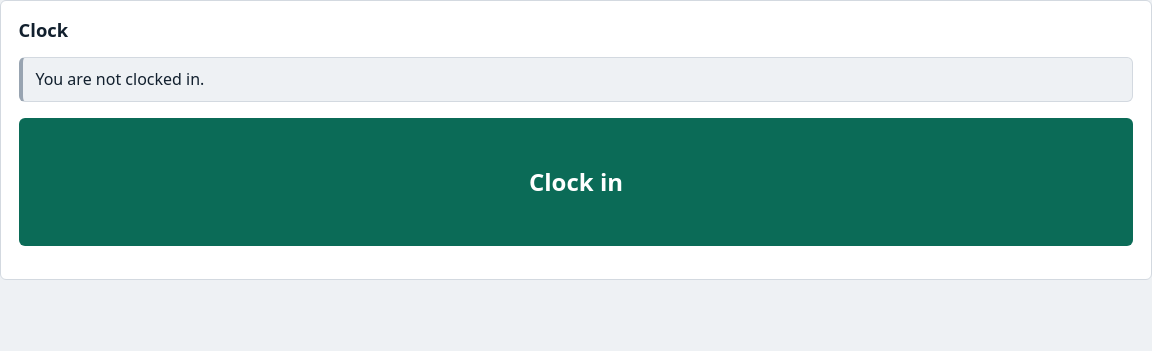
Test: shows that nothing was recorded when the time service is down (503)
Click the button "Clock in".
click(576, 182)  # box 19,118 -> 1133,246
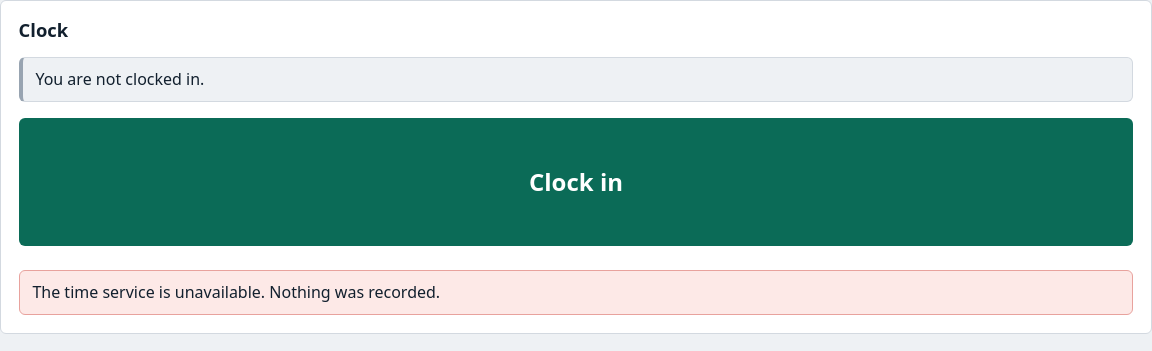
Expected: the text "The time service is unavailable. Nothing was recorded." is shown, 19,270 -> 1133,315
